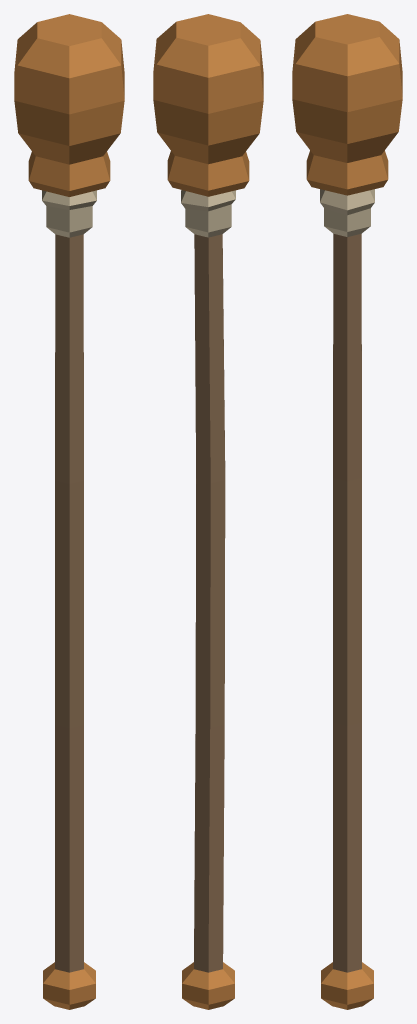
File: SM_pwe_fantasy_scepter_01.fbx
3 views of the same model, side by side, from view 1: azimuth 90°, elevation 25°; view 2: azimuth 150°, elevation 25°; view 3: azimuth 270°, elevation 25° (orthographic).
Visible parts, largest first — view 1: SM_pwe_fantasy_scepter_01; view 2: SM_pwe_fantasy_scepter_01; view 3: SM_pwe_fantasy_scepter_01.
Boxes of the visible parts, bbox=[...] form: SM_pwe_fantasy_scepter_01: bbox=[14, 14, 124, 1009]; SM_pwe_fantasy_scepter_01: bbox=[153, 14, 263, 1009]; SM_pwe_fantasy_scepter_01: bbox=[292, 14, 402, 1009].
Size of the model in its own units: 16.97 by 143 by 14.7.
